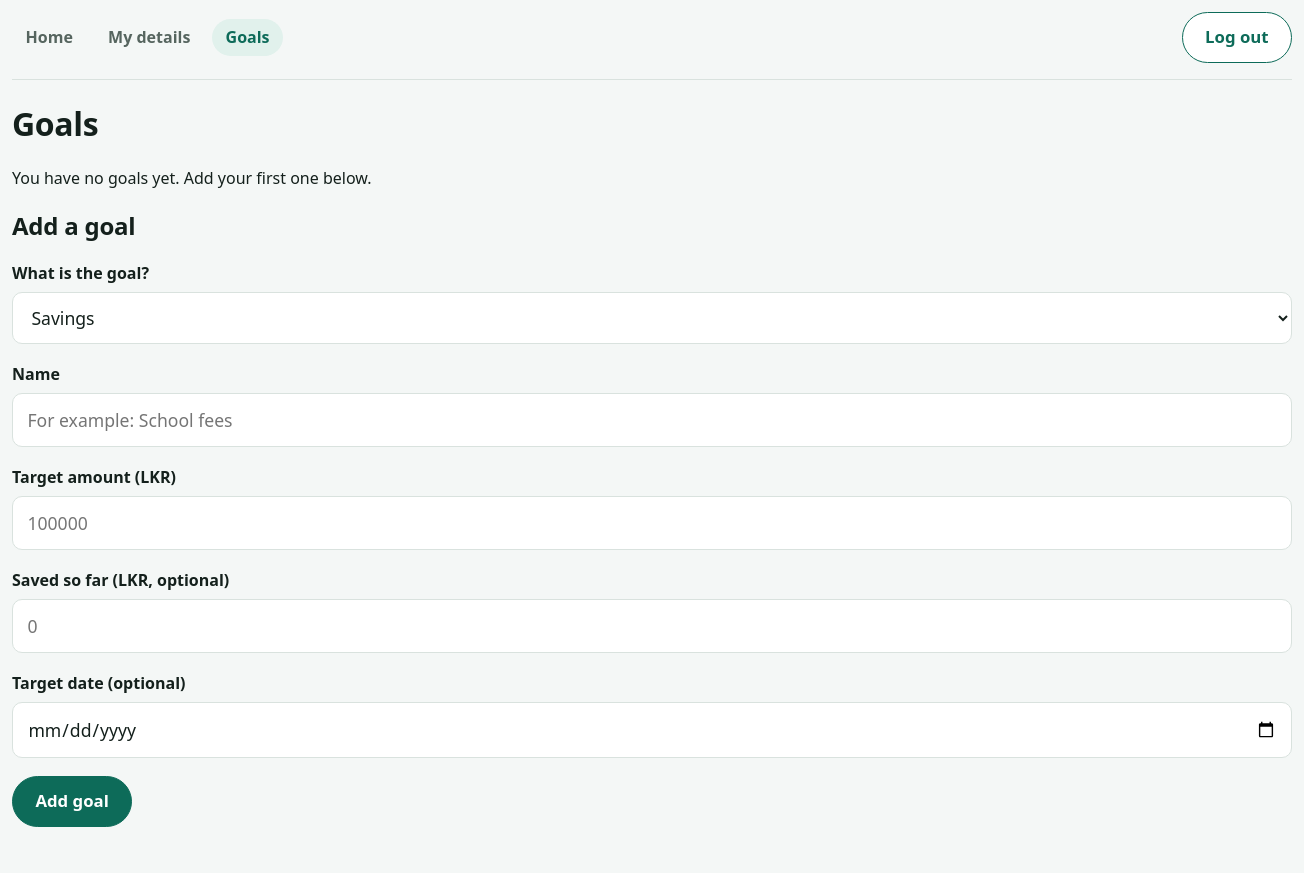
Test case: /goals › shows the API's validation errors for a goal
The width and height of the screenshot is (1304, 873).
Expected: the text "You have no goals yet. Add your first one below." is shown, [12,167,372,189]
In the field labelled "Name": {"x": 652, "y": 420} [12,393,1292,447], type "Bicycle"
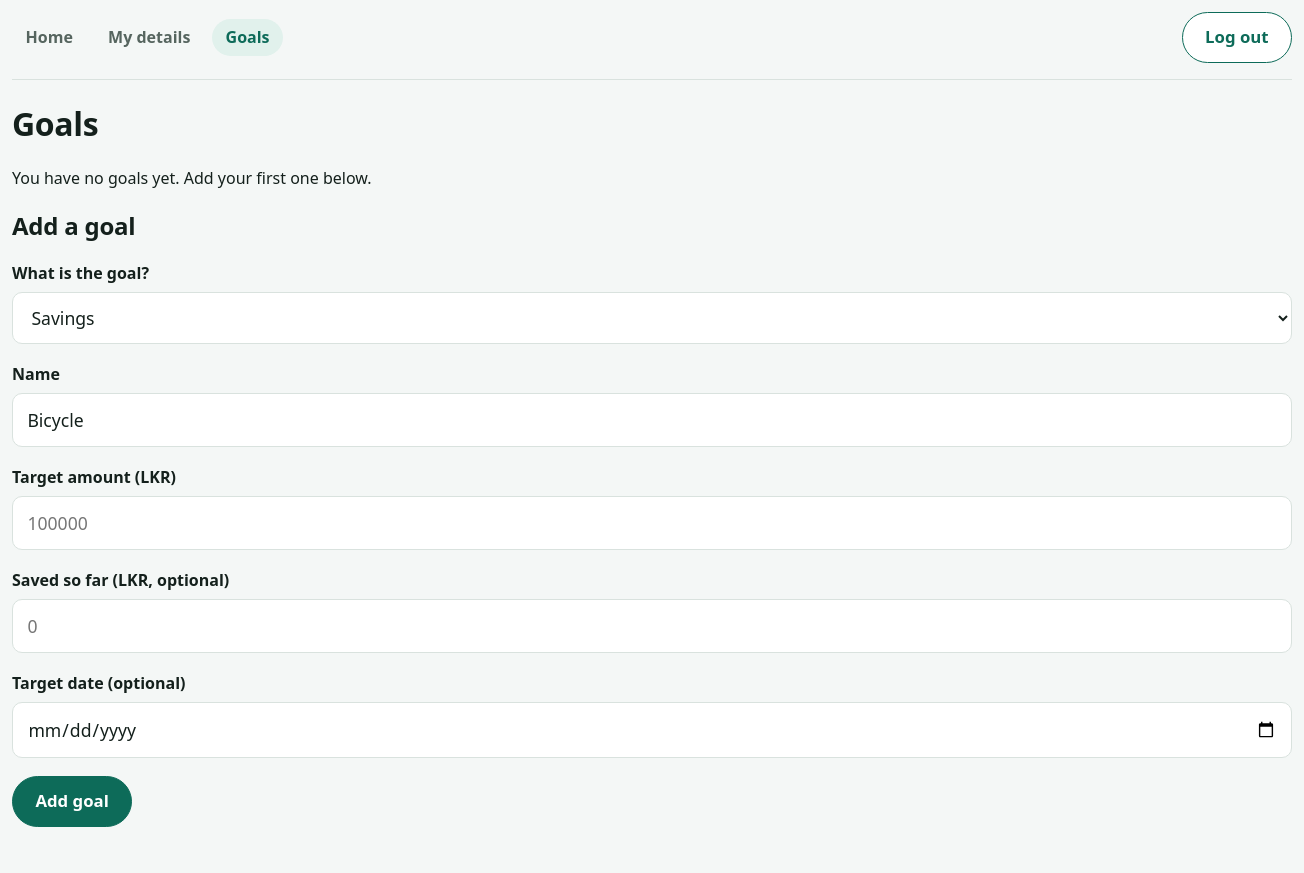
In the field labelled "Target amount (LKR)": {"x": 652, "y": 523} [12,496,1292,550], type "100"
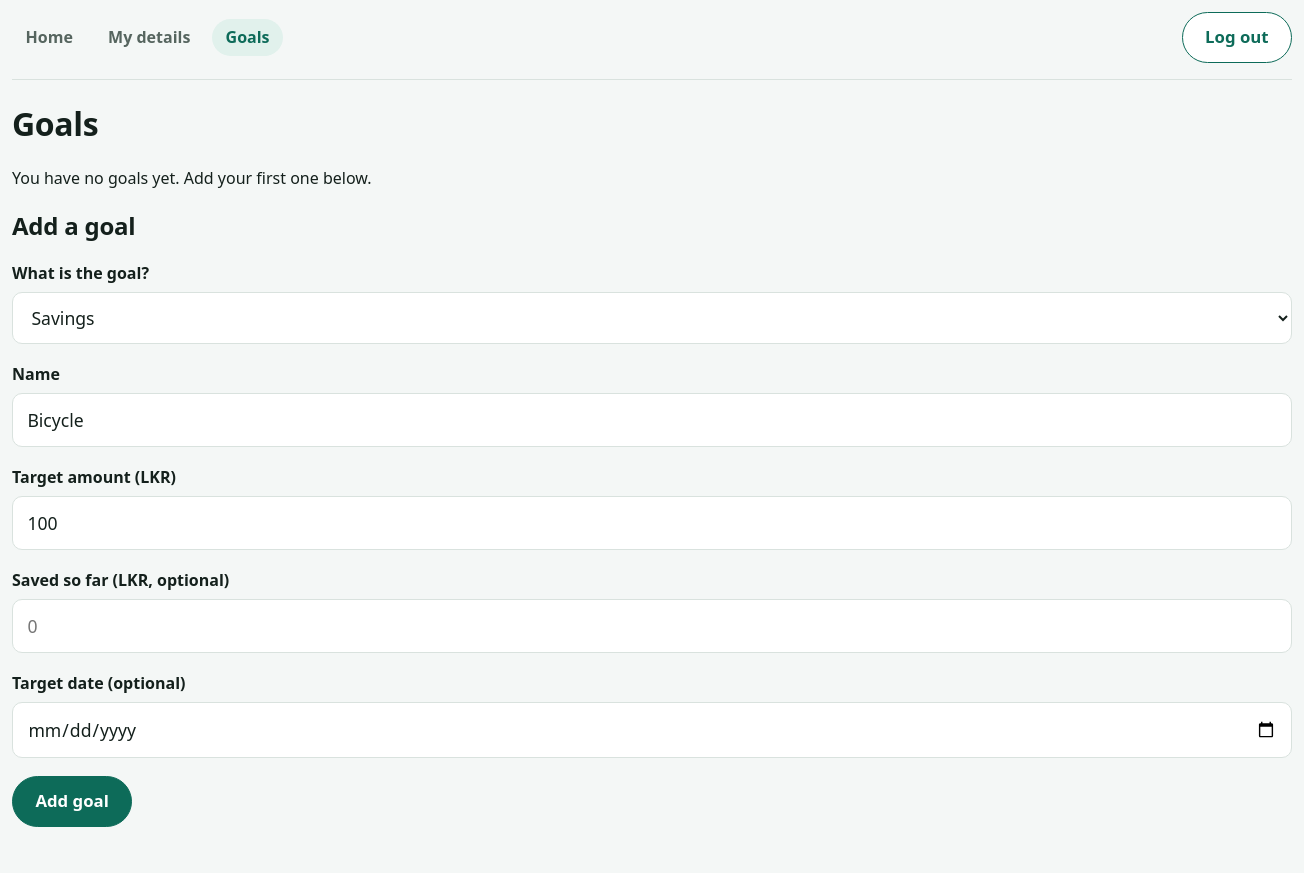
In the field labelled "Saved so far (LKR, optional)": {"x": 652, "y": 626} [12,599,1292,653], type "500"
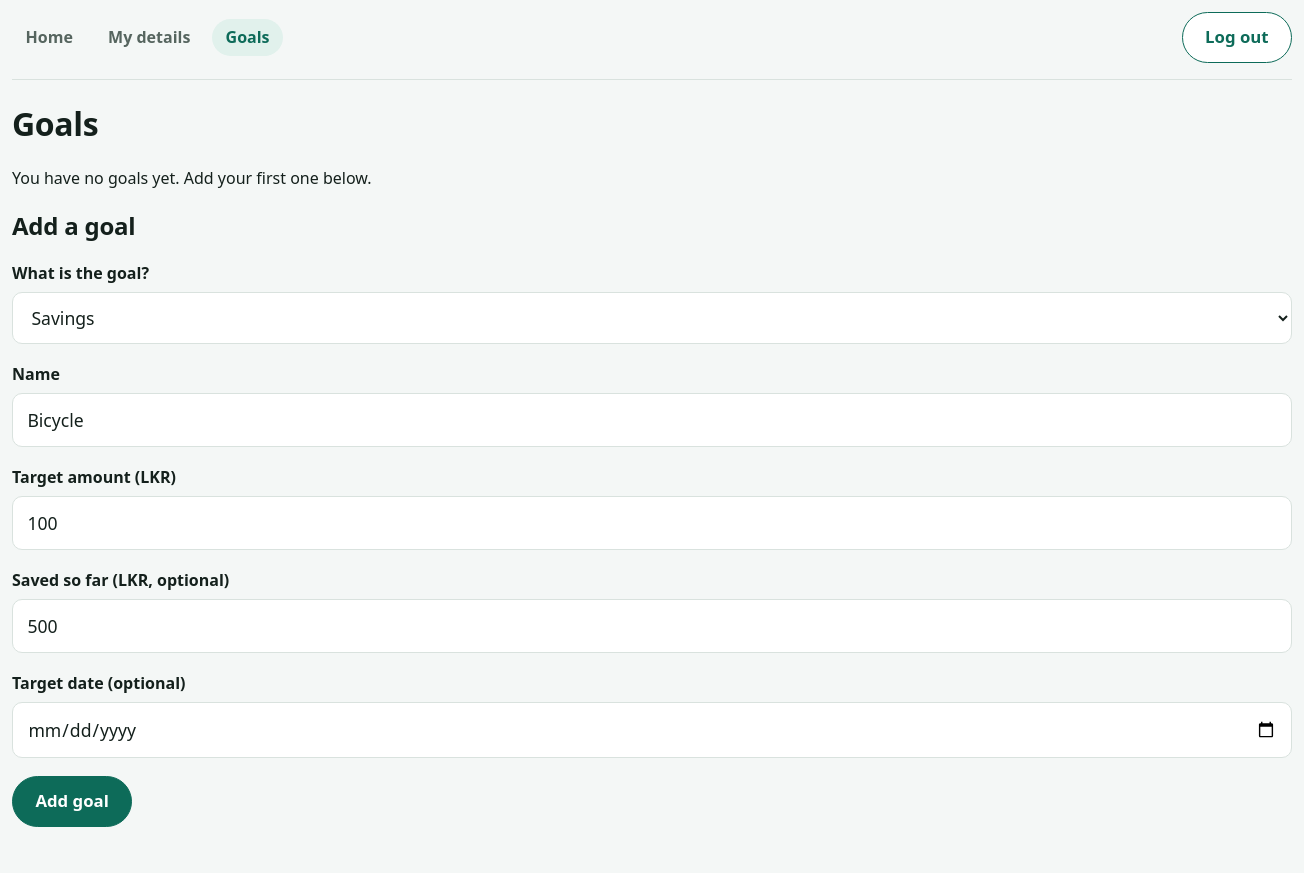
Click the button "Add goal": {"x": 72, "y": 801} [12,776,132,827]
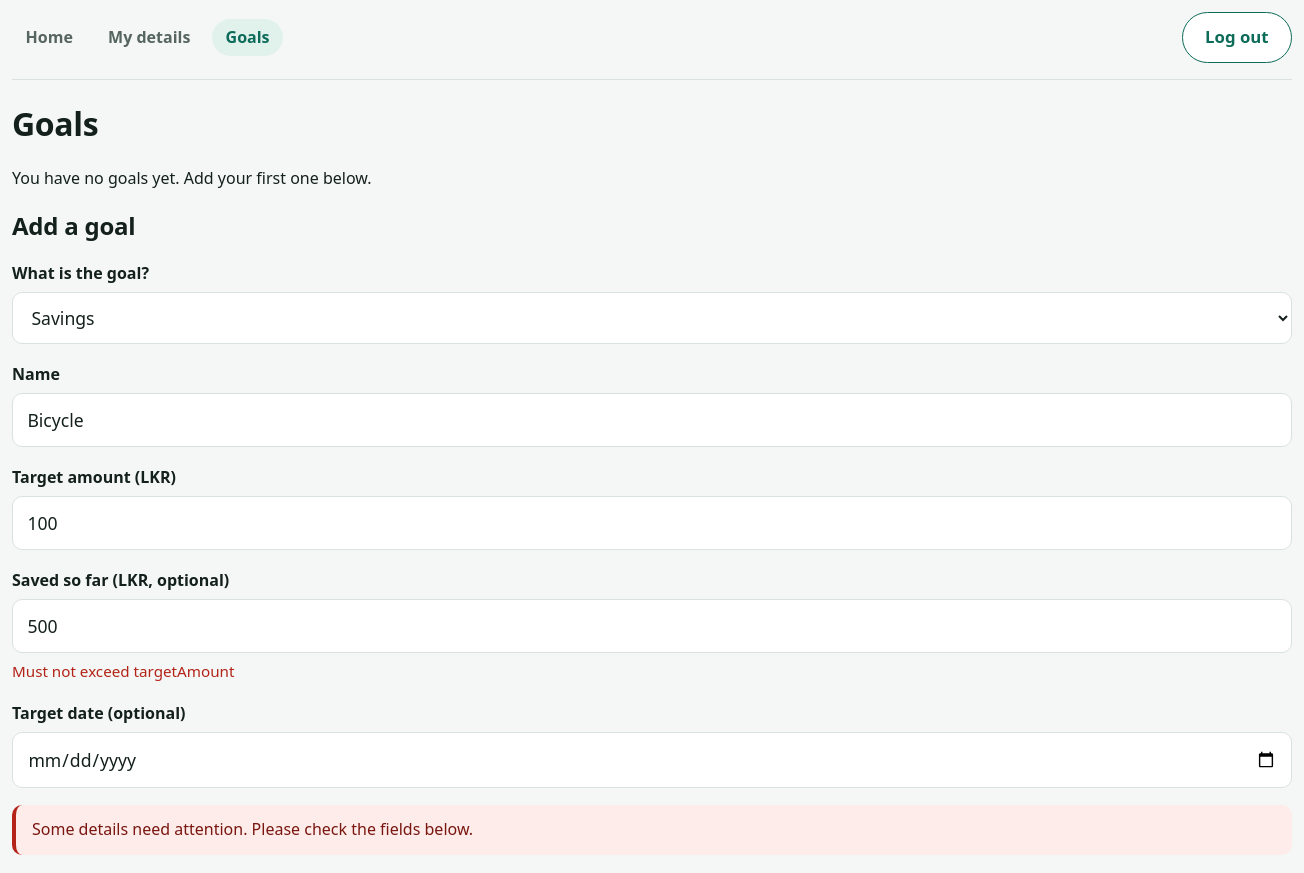
Expected: the message reads "Some details need attention. Please check the fields below.", [32,818,473,840]
Expected: the text "Must not exceed targetAmount" is shown, [12,661,234,681]
